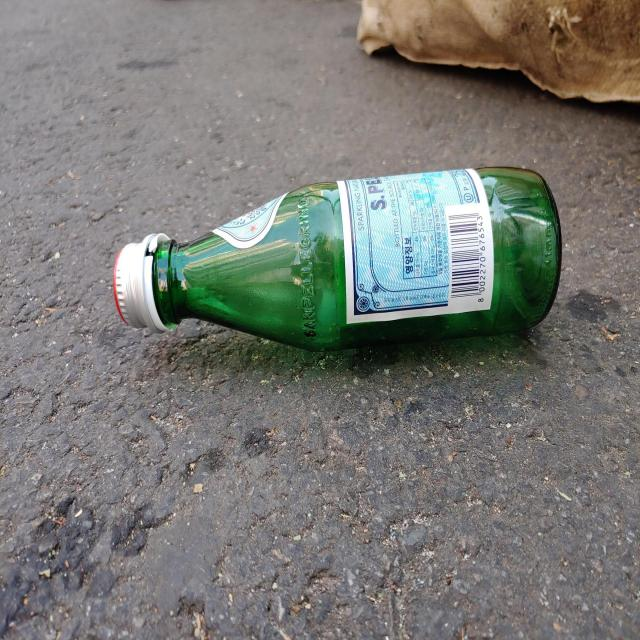glass: (113, 167, 563, 350)
